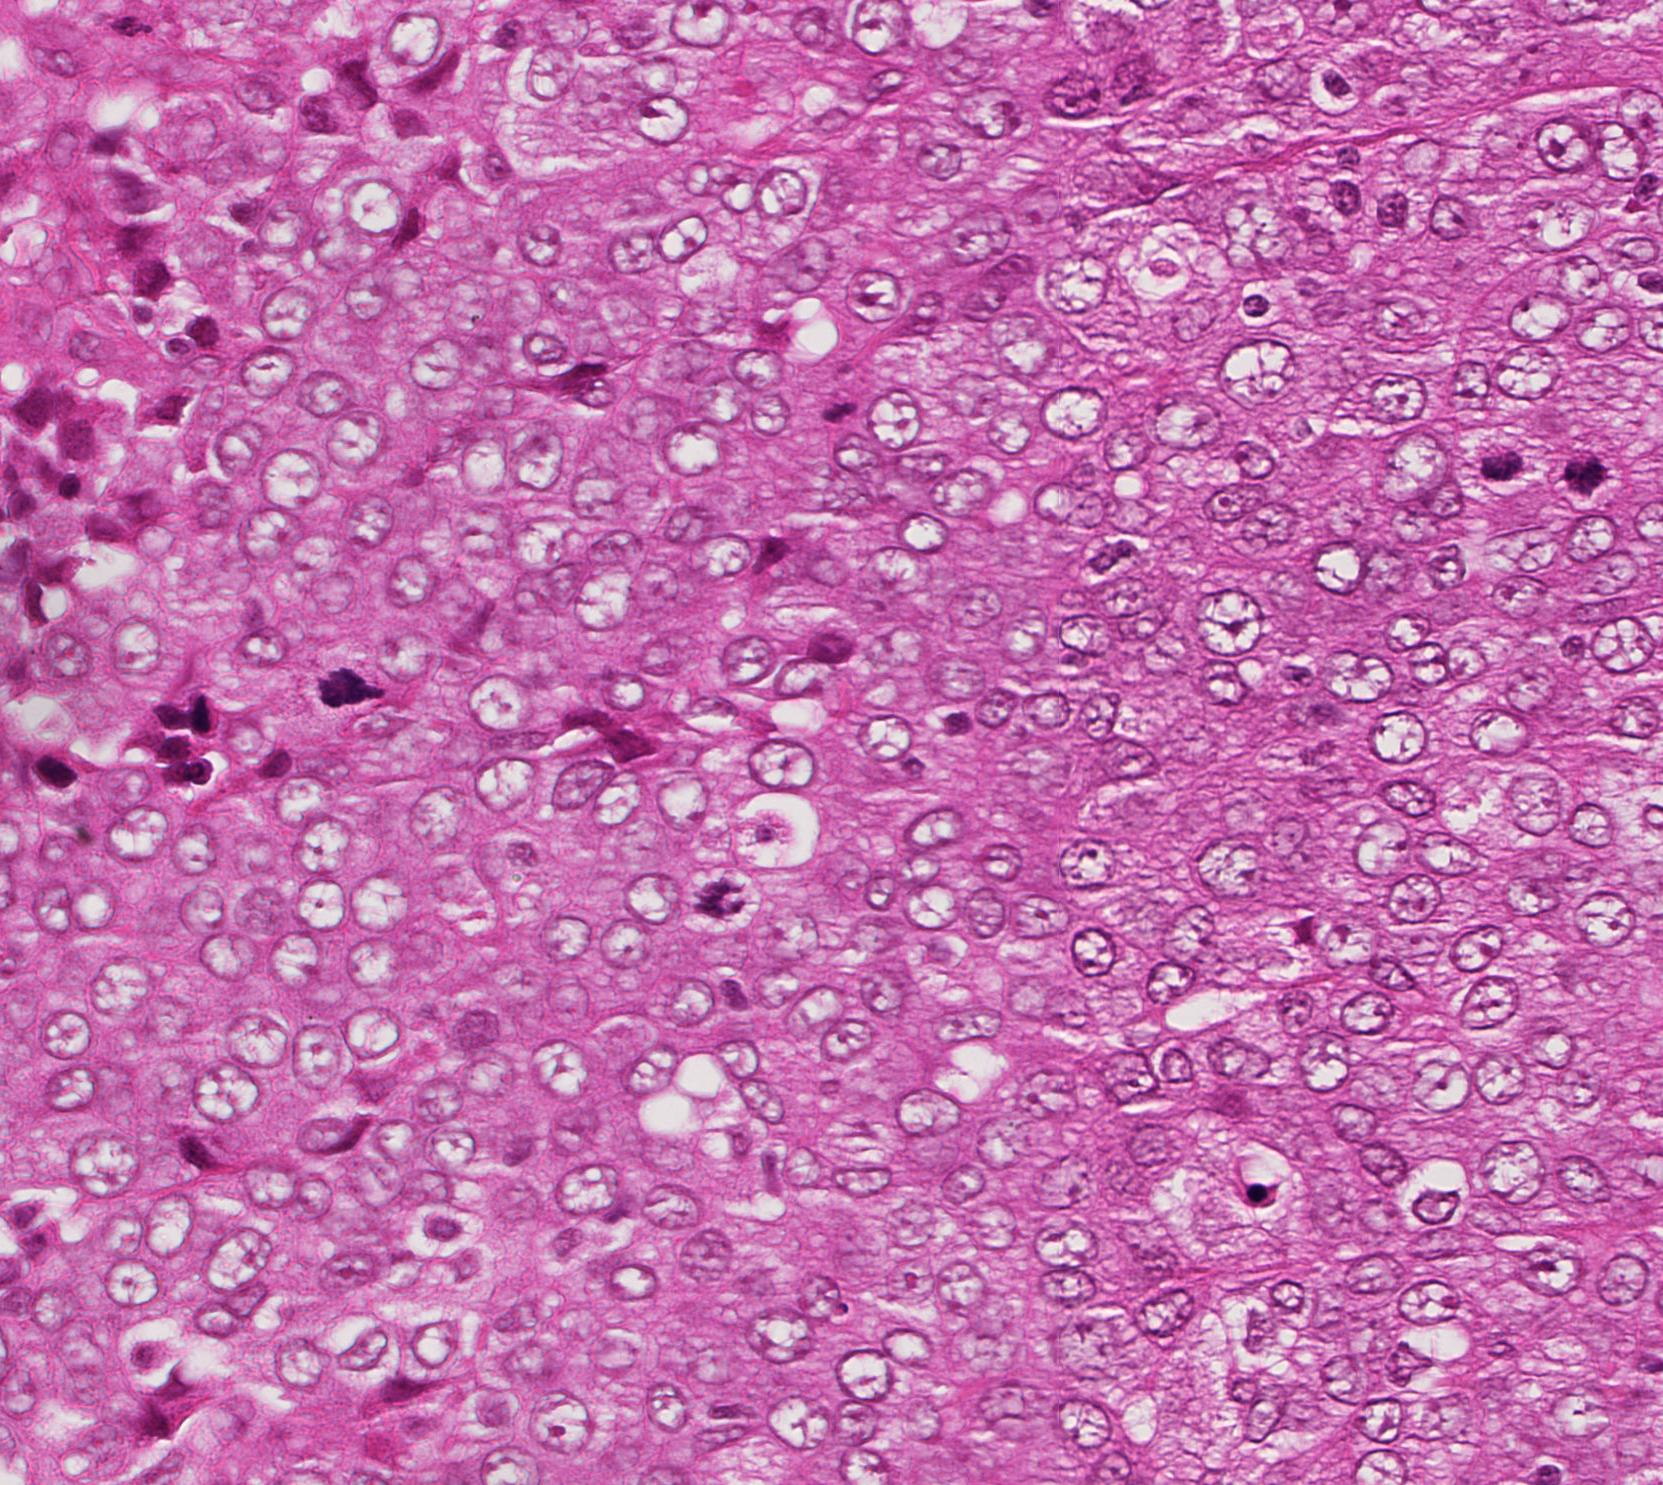mitosis: (1558, 450, 1619, 510), (315, 651, 376, 711), (690, 869, 750, 927), (1457, 429, 1517, 487)
